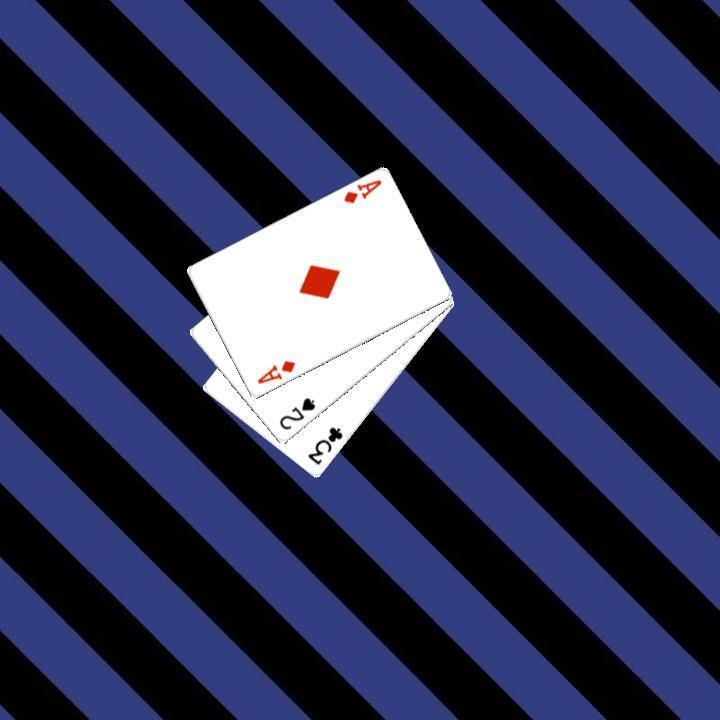2: (275, 393, 317, 432)
3: (303, 423, 345, 468)
A: (252, 356, 297, 386), (339, 176, 383, 206)
